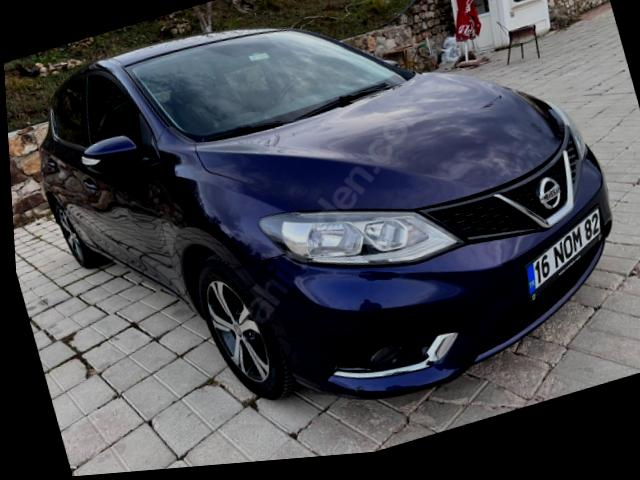plaka: (525, 208, 600, 295)
